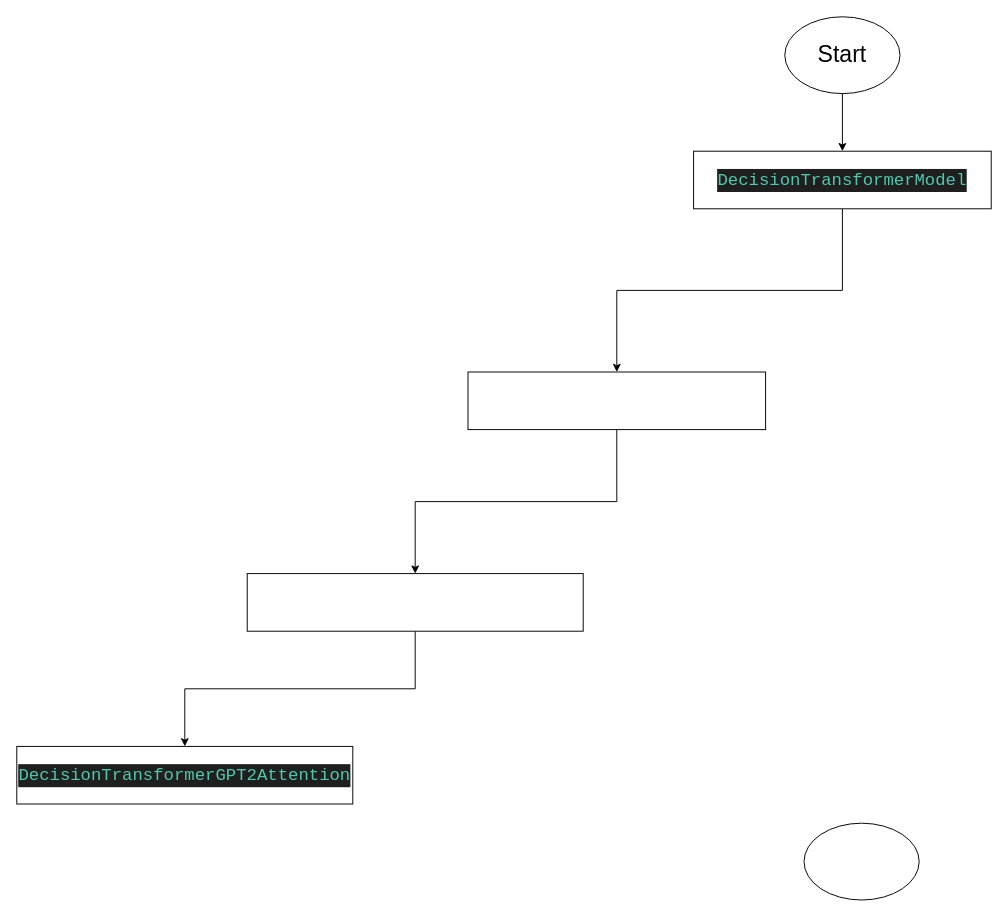
The diagram is 1008 pixels wide and 917 high, and some of its shapes have lost their labels. Here are the shapes that lost their labels. From the top down, the box of each, then its label:
(467, 371, 766, 430): DecisionTransformerGPT2Model
(246, 573, 583, 631): DecisionTransformerGPT2Block
